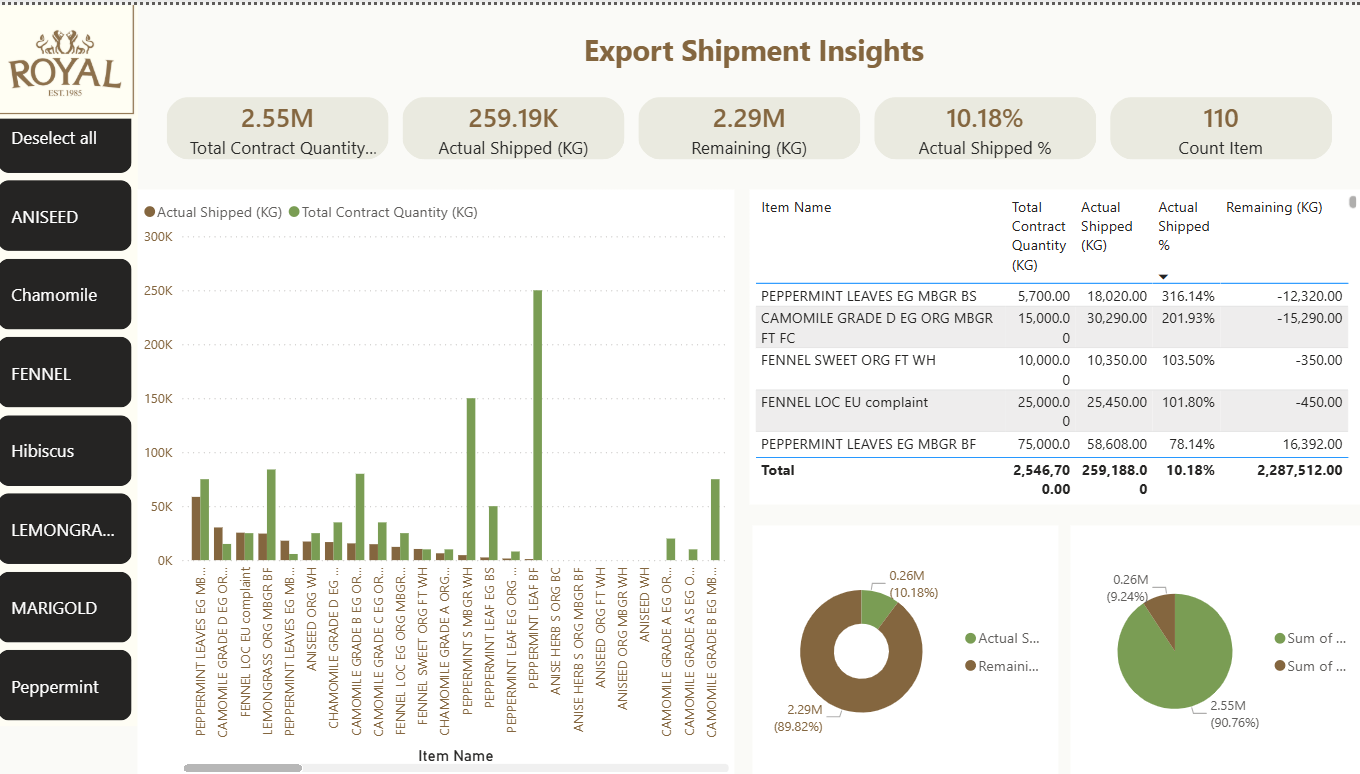

Layout of this report page (visuals, bound fields, positions):
{"tool":"powerbi","page":{"name":"Page 1","canvas":[1280,720],"ordinal":0},"visuals":[{"type":"textbox","box":[415.3,0,590,85],"z":0},{"type":"advancedSlicerVisual","fields":{"Values":["full Products.Product"]},"box":[0,85.3,135.7,587.6],"z":1000},{"type":"image","box":[0,0,136.3,105.8],"z":2000},{"type":"cardVisual","fields":{"Data":["Sum(full Products. Total Contract Quantity (KG))","Sum(full Products. Actual Shipped (KG))","Sum(full Products. Remaining (KG))","full Products.Actual Shipped % Correct","full Products.Count Item"]},"box":[136.3,59.3,1143.2,112.2],"z":3000},{"type":"clusteredColumnChart","fields":{"Category":["full Products.Item Name"],"Y":["Sum(full Products.Actual Shipped (KG))","Sum(full Products.Total Contract Quantity (KG))"]},"box":[136.3,171.6,556.4,548.3],"z":4000},{"type":"donutChart","fields":{"Y":["Sum(full Products.Actual Shipped (KG))","Sum(full Products.Remaining (KG))"]},"box":[708.7,485.8,285.4,234.1],"z":5000},{"type":"tableEx","fields":{"Values":["full Products.Item Name","Sum(full Products.Total Contract Quantity (KG))","Sum(full Products.Actual Shipped (KG))","full Products.Actual Shipped % Correct","Sum(full Products.Remaining (KG))"]},"box":[707.1,171.6,572.4,293.4],"z":6000},{"type":"pieChart","fields":{"Y":["Sum(full Products.Total Contract Quantity (KG))","Sum(full Products.Actual Shipped (KG))"]},"box":[1005.3,485.8,274.2,234.1],"z":7000}]}

Visuals, with their boxes in screenshot pixels (x1, y1, x2, y2), scaled from the page's 1280x720 canvas onto the 1360x774 screenshot:
textbox: bbox=(441, 0, 1068, 91)
advancedSlicerVisual - full Products.Product: bbox=(0, 92, 144, 723)
image: bbox=(0, 0, 145, 114)
cardVisual - Sum(full Products. Total Contract Quantity (KG)) x Sum(full Products. Actual Shipped (KG)): bbox=(145, 64, 1359, 184)
clusteredColumnChart - full Products.Item Name x Sum(full Products.Actual Shipped (KG)): bbox=(145, 184, 736, 773)
donutChart - Sum(full Products.Actual Shipped (KG)) x Sum(full Products.Remaining (KG)): bbox=(753, 522, 1056, 773)
tableEx - full Products.Item Name x Sum(full Products.Total Contract Quantity (KG)): bbox=(751, 184, 1359, 500)
pieChart - Sum(full Products.Total Contract Quantity (KG)) x Sum(full Products.Actual Shipped (KG)): bbox=(1068, 522, 1359, 773)
